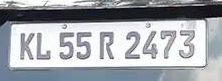2: (124, 31, 140, 60)
3: (178, 30, 196, 59)
4: (142, 30, 159, 59)
5: (75, 32, 93, 60), (58, 32, 75, 61)
7: (159, 30, 177, 60)
K: (20, 33, 35, 62)
L: (36, 33, 51, 62)
R: (99, 31, 115, 60)
